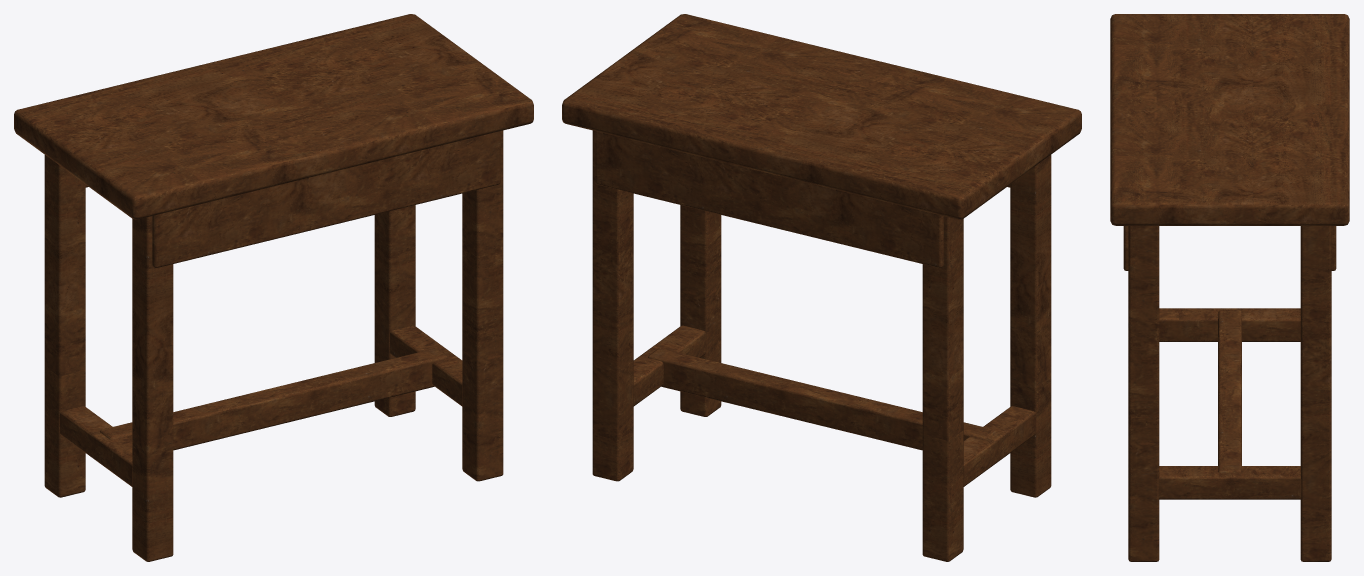
Rendered from candle_table.glb.
3 views of the same model, side by side, from view 1: azimuth 30°, elevation 25°; view 2: azimuth 150°, elevation 25°; view 3: azimuth 270°, elevation 25° (orthographic). The views are drawn at different scales.
Visible parts, largest first — view 1: WalnutSurface; view 2: WalnutSurface; view 3: WalnutSurface.
Part boxes in pixels (x1,y1,x2,y2): WalnutSurface: (14, 14, 533, 561); WalnutSurface: (562, 14, 1081, 561); WalnutSurface: (1110, 14, 1349, 561).
Size of the model in its own units: 0.95 by 0.8525 by 0.5.
1 material, 1 textured.
